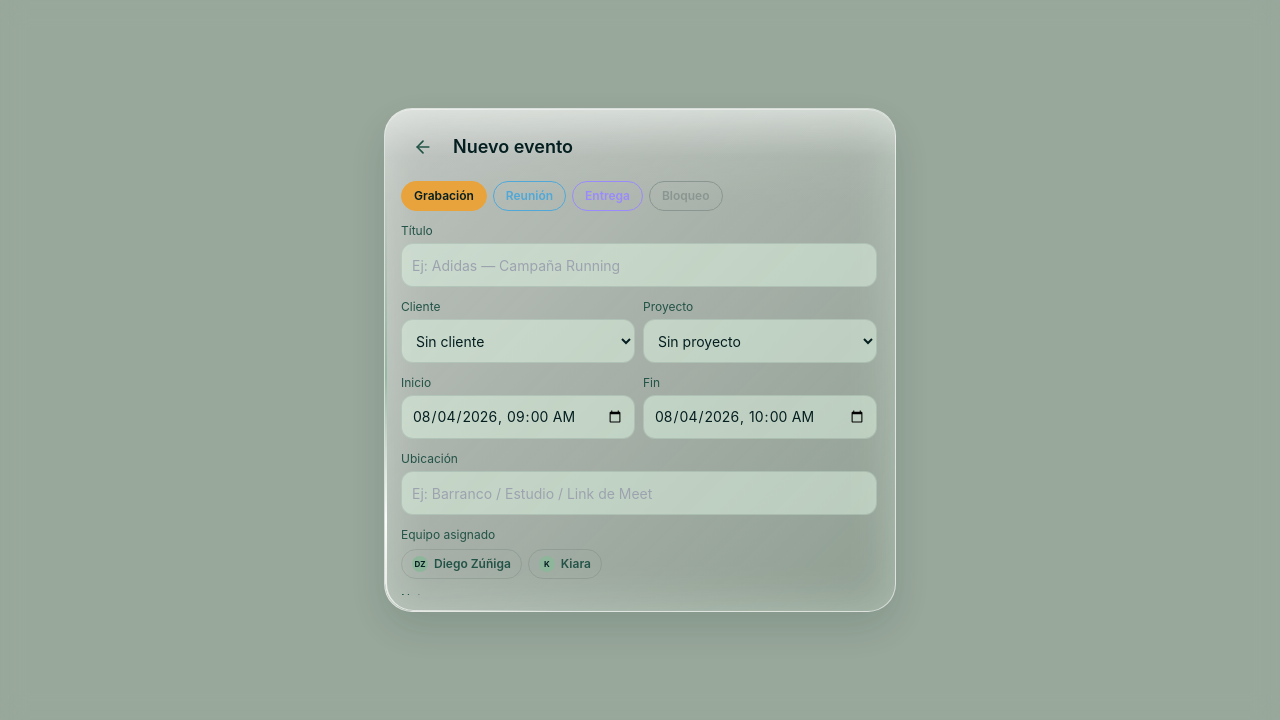
Test: CalendarEventEditor › shows an error and keeps the form open when saving fails
Step 1. Type "X" into the field labelled "Título" → (639, 265), box [401,243,877,287]
(page scrolled)
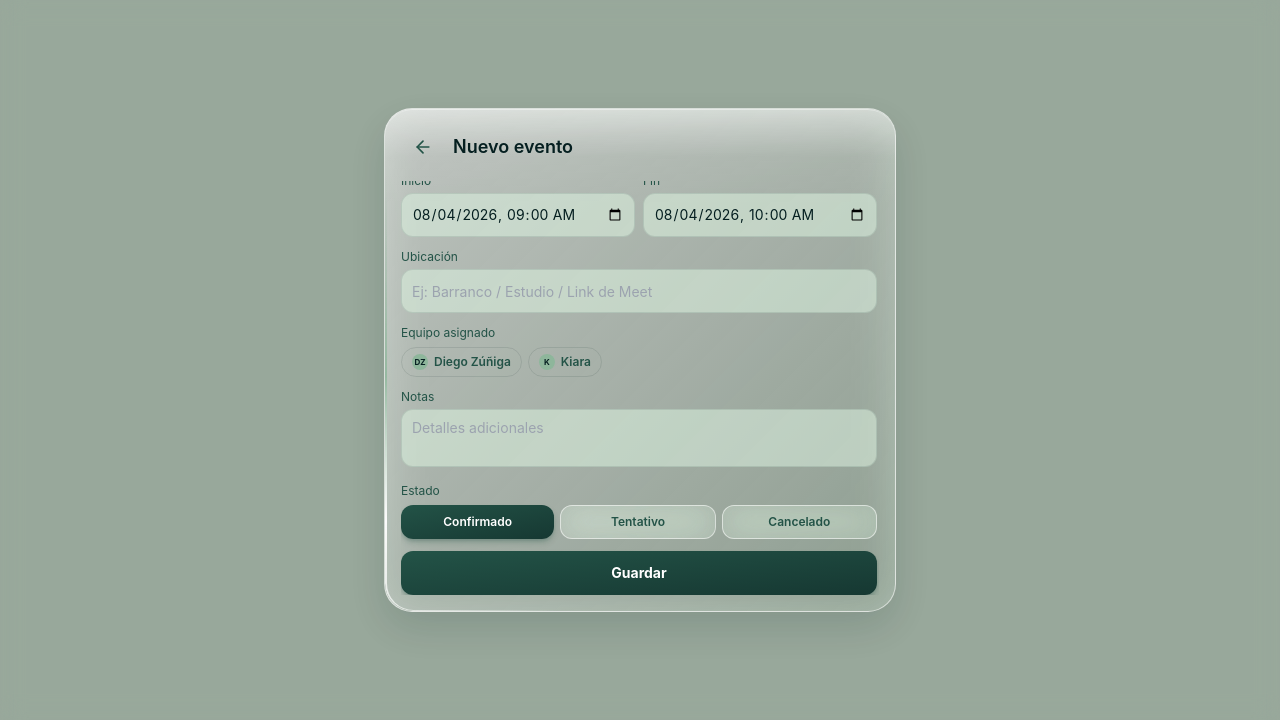
Step 2. Click the button "Guardar" → (639, 573), box [401,551,877,595]
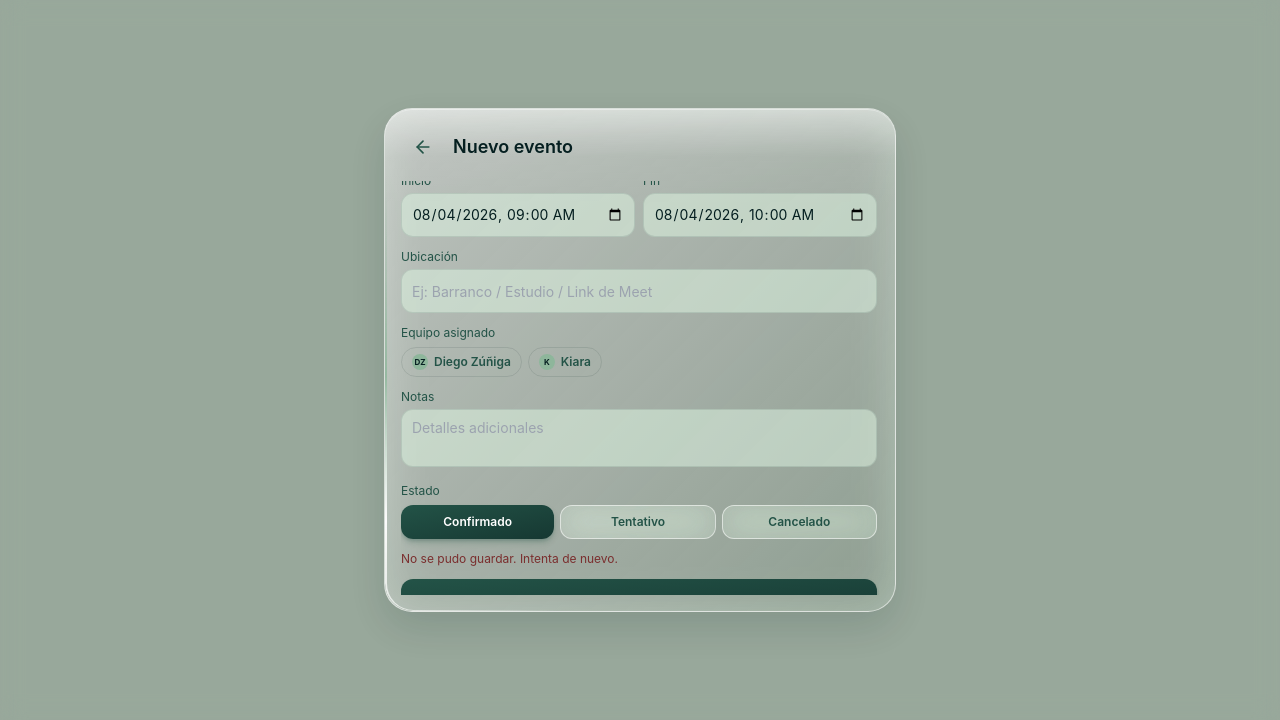
Check: the text "No se pudo guardar. Intenta de nuevo." is shown, box [401,551,618,566]
